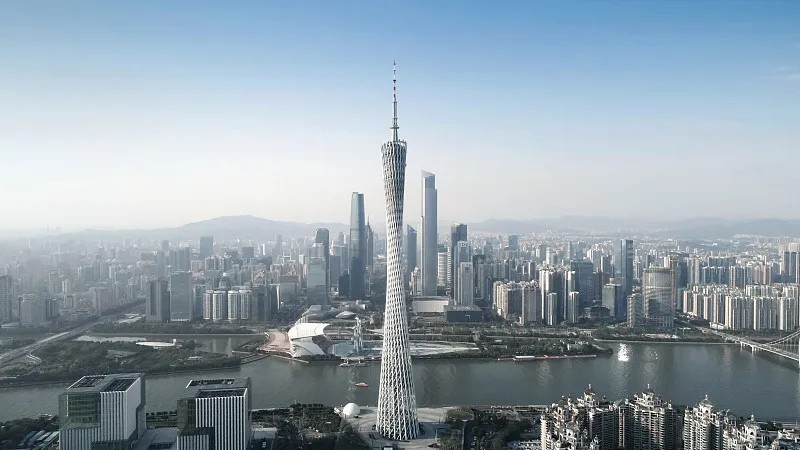Canton: (377, 59, 423, 441)
